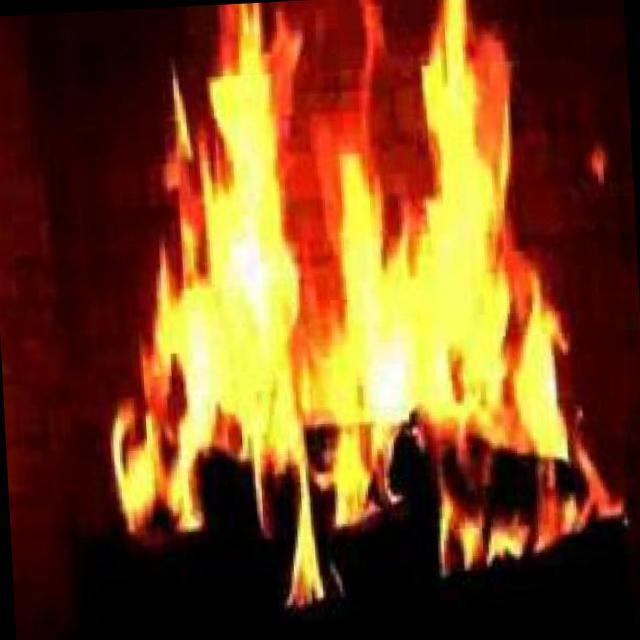Fire: (110, 44, 554, 541)
